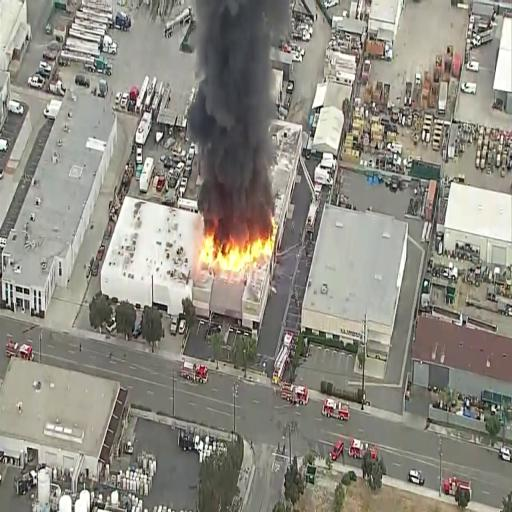fire: (204, 228, 274, 269)
smoke: (198, 0, 270, 210)
